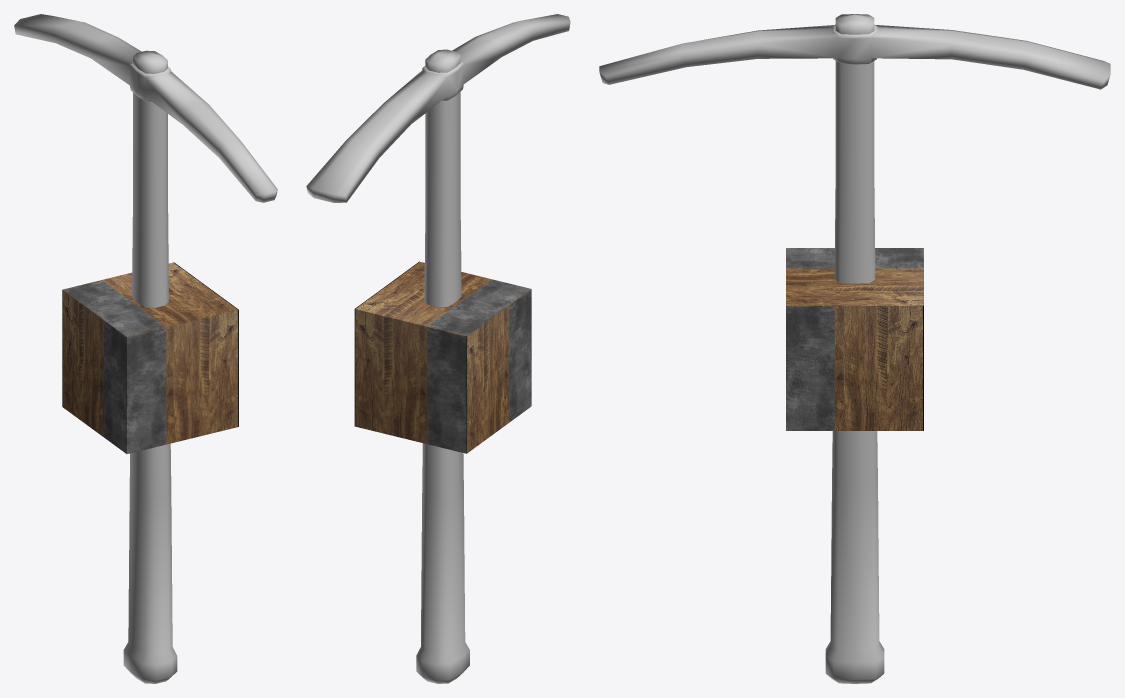
3 views of the same model, side by side, from view 1: azimuth 30°, elevation 25°; view 2: azimuth 150°, elevation 25°; view 3: azimuth 270°, elevation 25° (orthographic). The views are drawn at different scales.
Visible parts, largest first — view 1: pickaxe, Cube; view 2: pickaxe, Cube; view 3: pickaxe, Cube.
Part boxes in pixels (x1,y1,x2,y2): pickaxe: (14, 14, 277, 683); Cube: (62, 262, 238, 453); pickaxe: (306, 14, 570, 683); Cube: (354, 261, 531, 453); pickaxe: (599, 14, 1110, 683); Cube: (786, 248, 923, 430).
Size of the model in its own units: 2 by 10.59 by 7.42.
